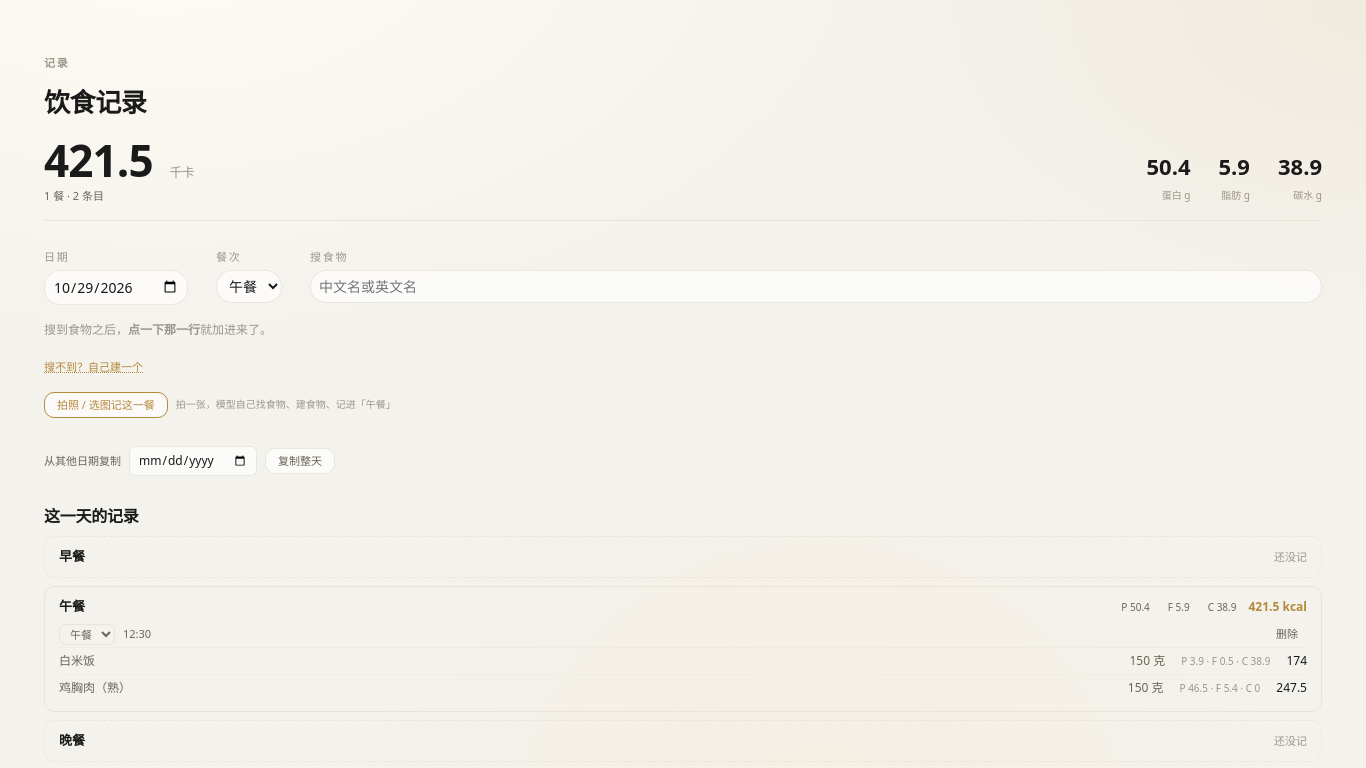
饮食记录页 · 那一天的合计 › changing_the_date_reloads_that_days_totals
Check: the element with class "stat-band" shows "421.5", box [44,130,163,190]
Type "2026-08-20" into the date field with class "meal-date" at (116, 287), box [44,270,188,304]
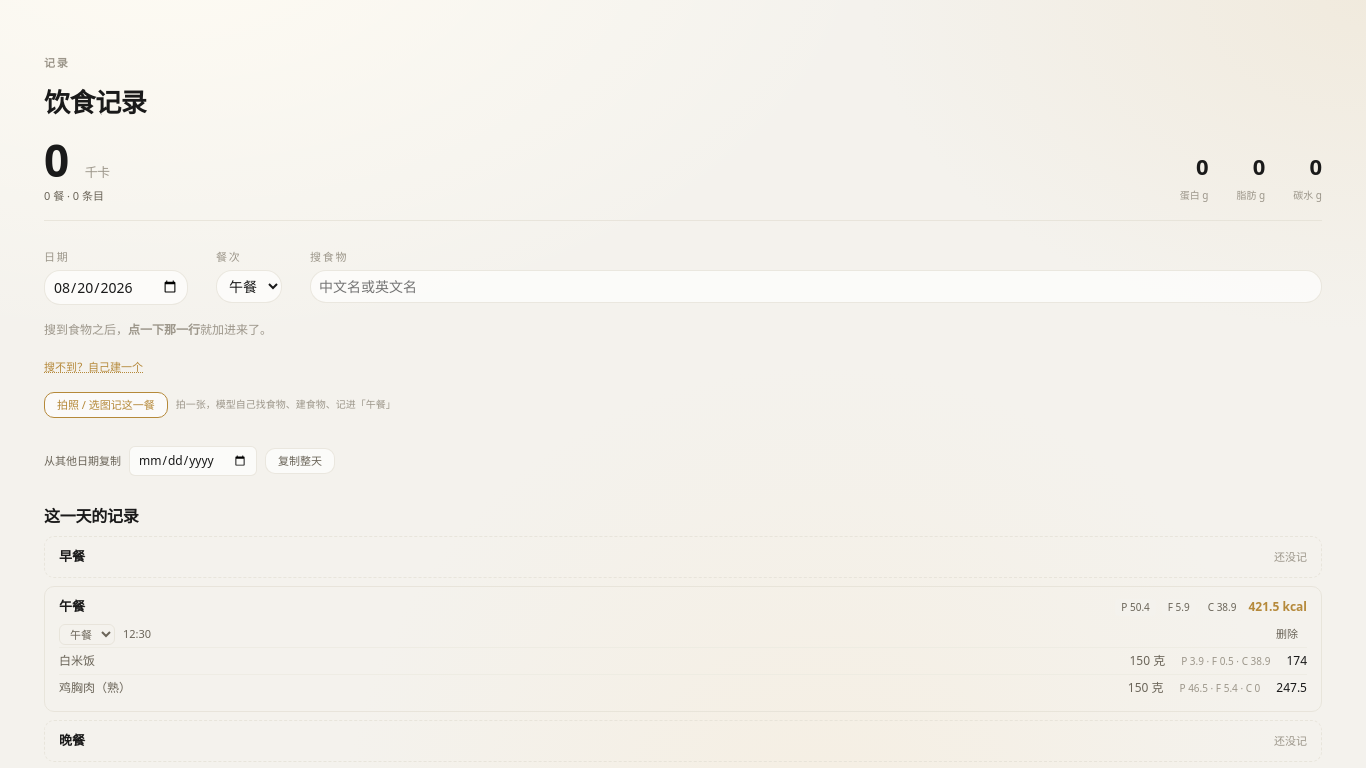
Check: the element with class "stat-band" shows "0 千卡", box [44,138,1322,221]
